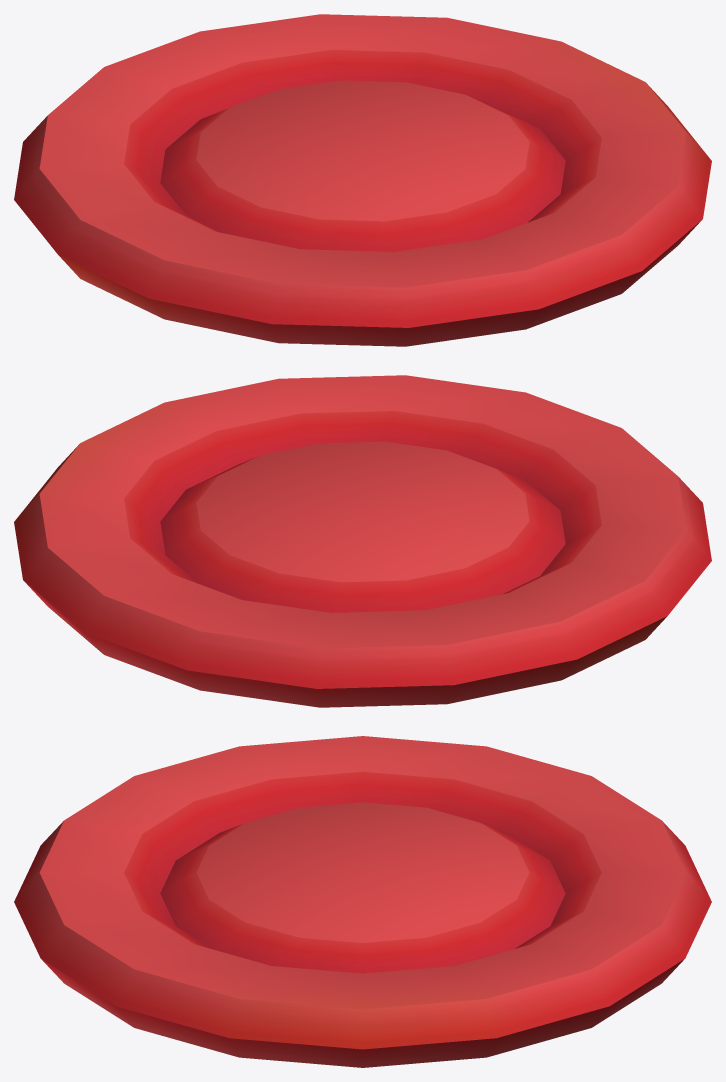
File: board.token_red.glb
3 views of the same model, one above another, from view 1: azimuth 30°, elevation 25°; view 2: azimuth 150°, elevation 25°; view 3: azimuth 270°, elevation 25° (orthographic).
Parts seen in each view (by area): view 1: token_red; view 2: token_red; view 3: token_red.
Boxes of the visible parts, x1,y1,x2,y2 form: token_red: [14, 14, 711, 346]; token_red: [14, 375, 711, 707]; token_red: [14, 736, 711, 1067].
Size of the model in its own units: 0.0288 by 0.00267 by 0.0288.
1 material, 1 textured.
